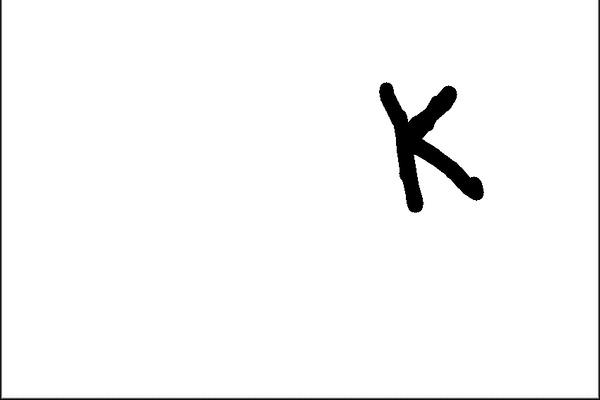K: (370, 74, 491, 218)
